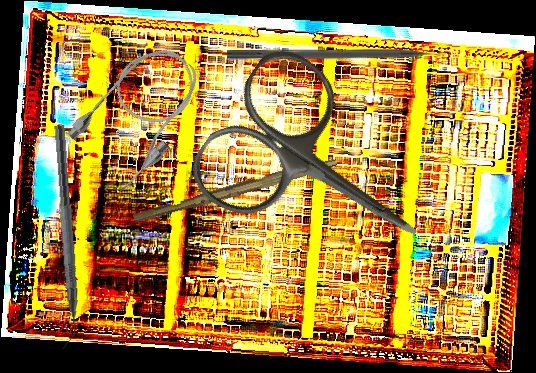Cannula: (59, 31, 220, 198)
Chopper: (38, 125, 85, 350)
Iris Scissors: (179, 37, 463, 306)
Pusher: (227, 49, 458, 62)
Scalpel Handle: (132, 151, 338, 228)
